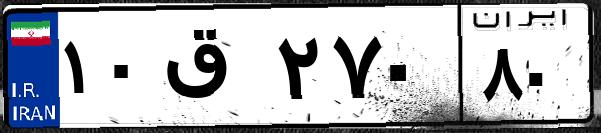0: (385, 28, 445, 110), (525, 38, 570, 115), (110, 28, 158, 98)
1: (57, 26, 110, 100)
2: (270, 28, 330, 110)
7: (330, 28, 385, 110)
8: (475, 38, 525, 113)
ق: (158, 20, 270, 120)
